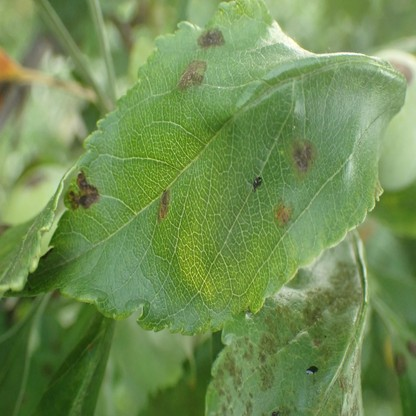scab: (213, 264, 364, 416), (67, 172, 99, 210), (286, 140, 318, 177), (176, 61, 206, 89), (197, 29, 224, 49), (272, 199, 292, 225), (157, 189, 169, 220)
